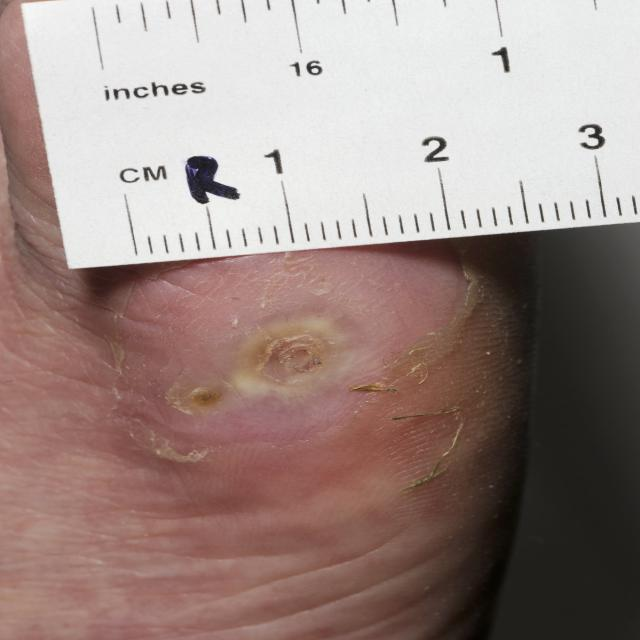wound: (106, 240, 477, 486)
